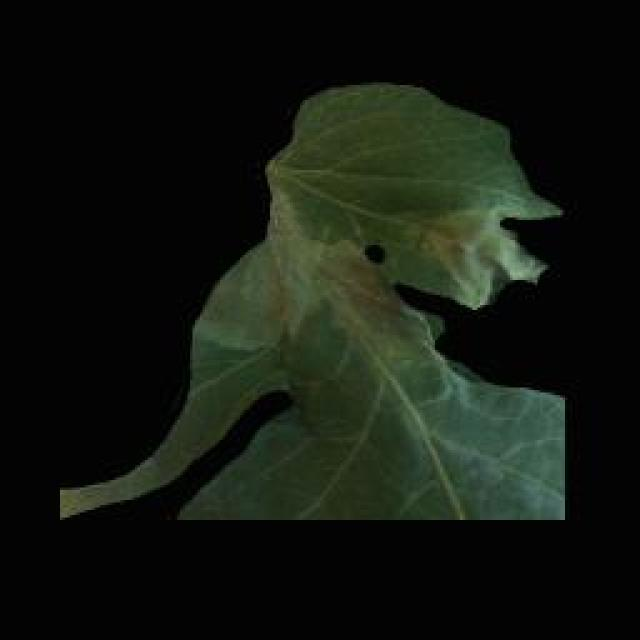Tomato Late Blight: (228, 152, 530, 390)
